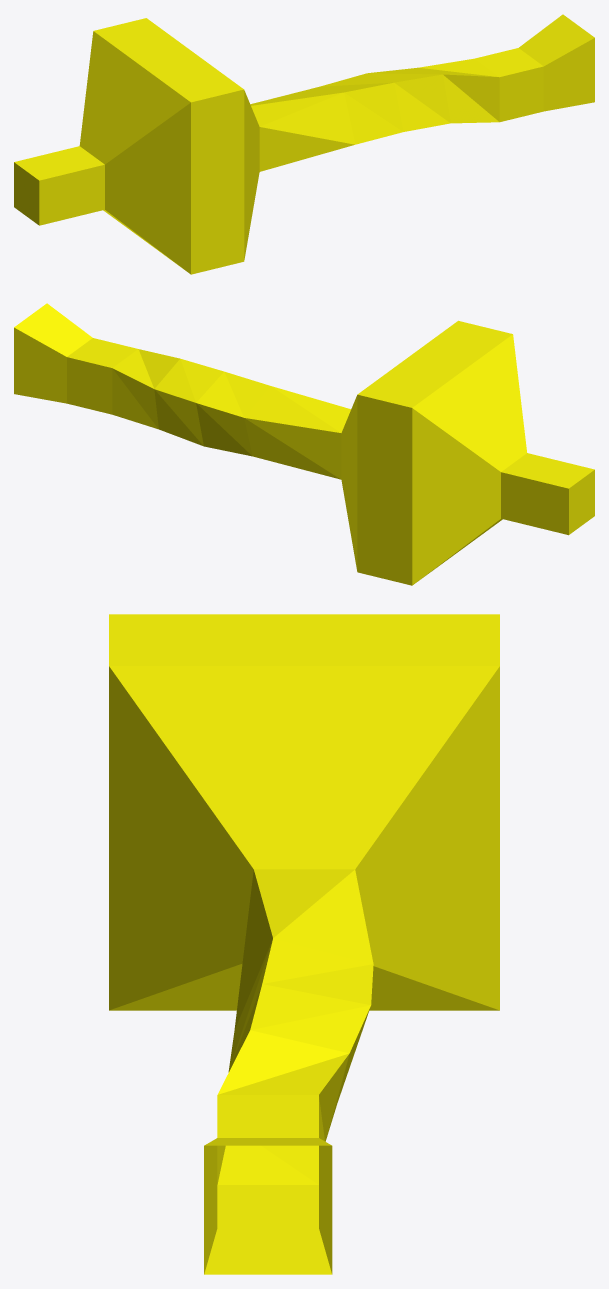
The model's file is VicoloCIeco.fbx.
3 renders of one model, top to bottom at view 1: azimuth 30°, elevation 25°; view 2: azimuth 150°, elevation 25°; view 3: azimuth 270°, elevation 25°, orthographic. The views are drawn at different scales.
Parts seen in each view (by area): view 1: polySurface39; view 2: polySurface39; view 3: polySurface39.
Part boxes in pixels (left/top/right/bottom): polySurface39: left=14, top=14, right=594, bottom=274; polySurface39: left=14, top=303, right=594, bottom=585; polySurface39: left=109, top=614, right=499, bottom=1274.
Bounding box in the file's own units: 8.34 × 2.53 × 2.6.
